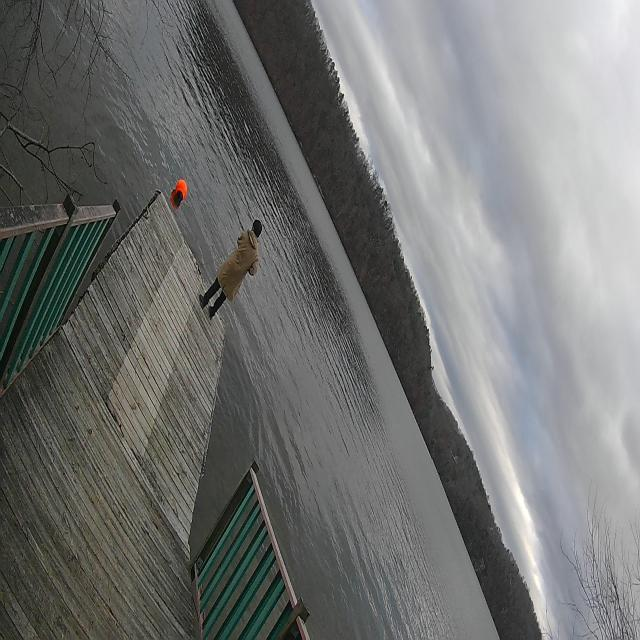Buoy: (173, 174, 190, 206)
